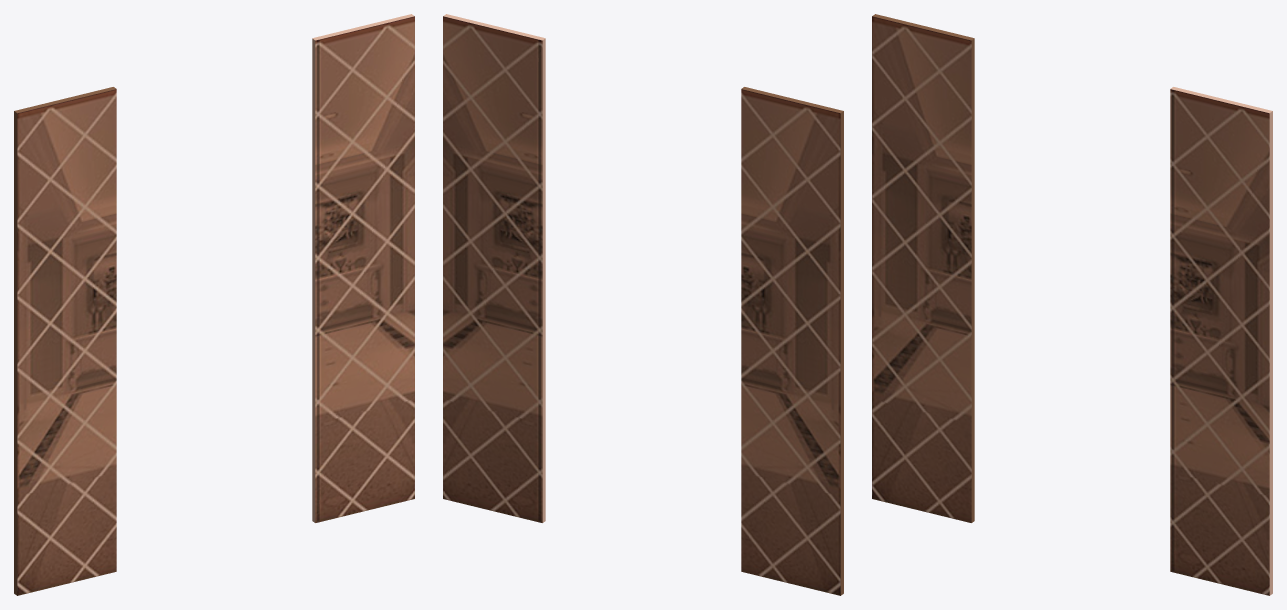
Rendered from landing_door_TM024.glb.
The picture shows the model from 3 angles, left to right: view 1: azimuth 30°, elevation 25°; view 2: azimuth 150°, elevation 25°; view 3: azimuth 330°, elevation 25°; orthographic projection.
Visible parts, largest first — view 1: Landing_Door_L, Landing_Door_R; view 2: Landing_Door_L, Landing_Door_R; view 3: Landing_Door_L, Landing_Door_R.
Boxes of the visible parts, bbox=[...] form: Landing_Door_L: bbox=[14, 87, 116, 595]; Landing_Door_R: bbox=[312, 14, 414, 522]; Landing_Door_L: bbox=[741, 87, 843, 595]; Landing_Door_R: bbox=[443, 14, 545, 522]; Landing_Door_L: bbox=[872, 14, 974, 522]; Landing_Door_R: bbox=[1170, 87, 1272, 595].
Bounding box in the file's own units: 1.81 × 2.1 × 0.025.
1 material, 1 textured.
